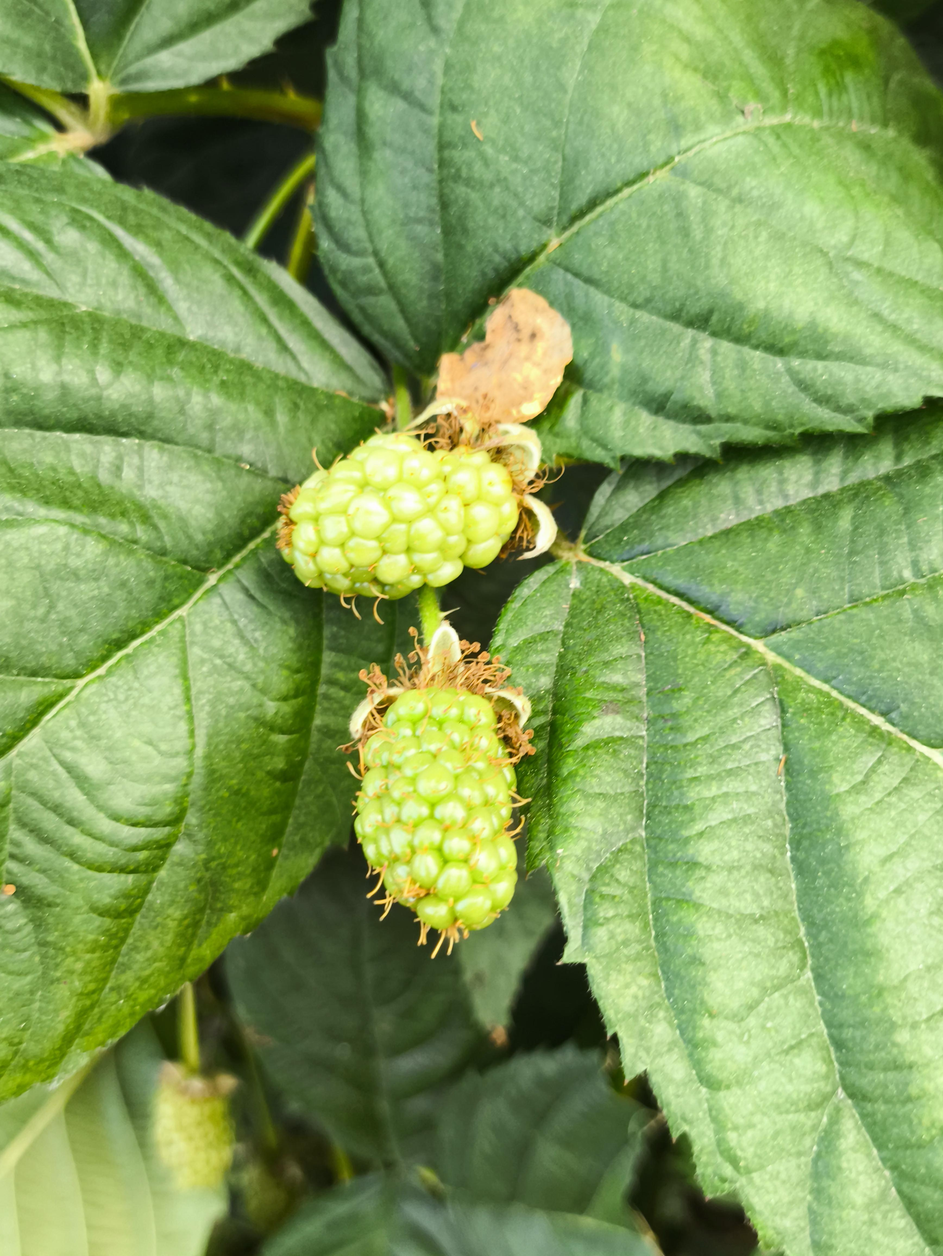verde: (279, 432, 518, 600), (355, 689, 516, 937)
